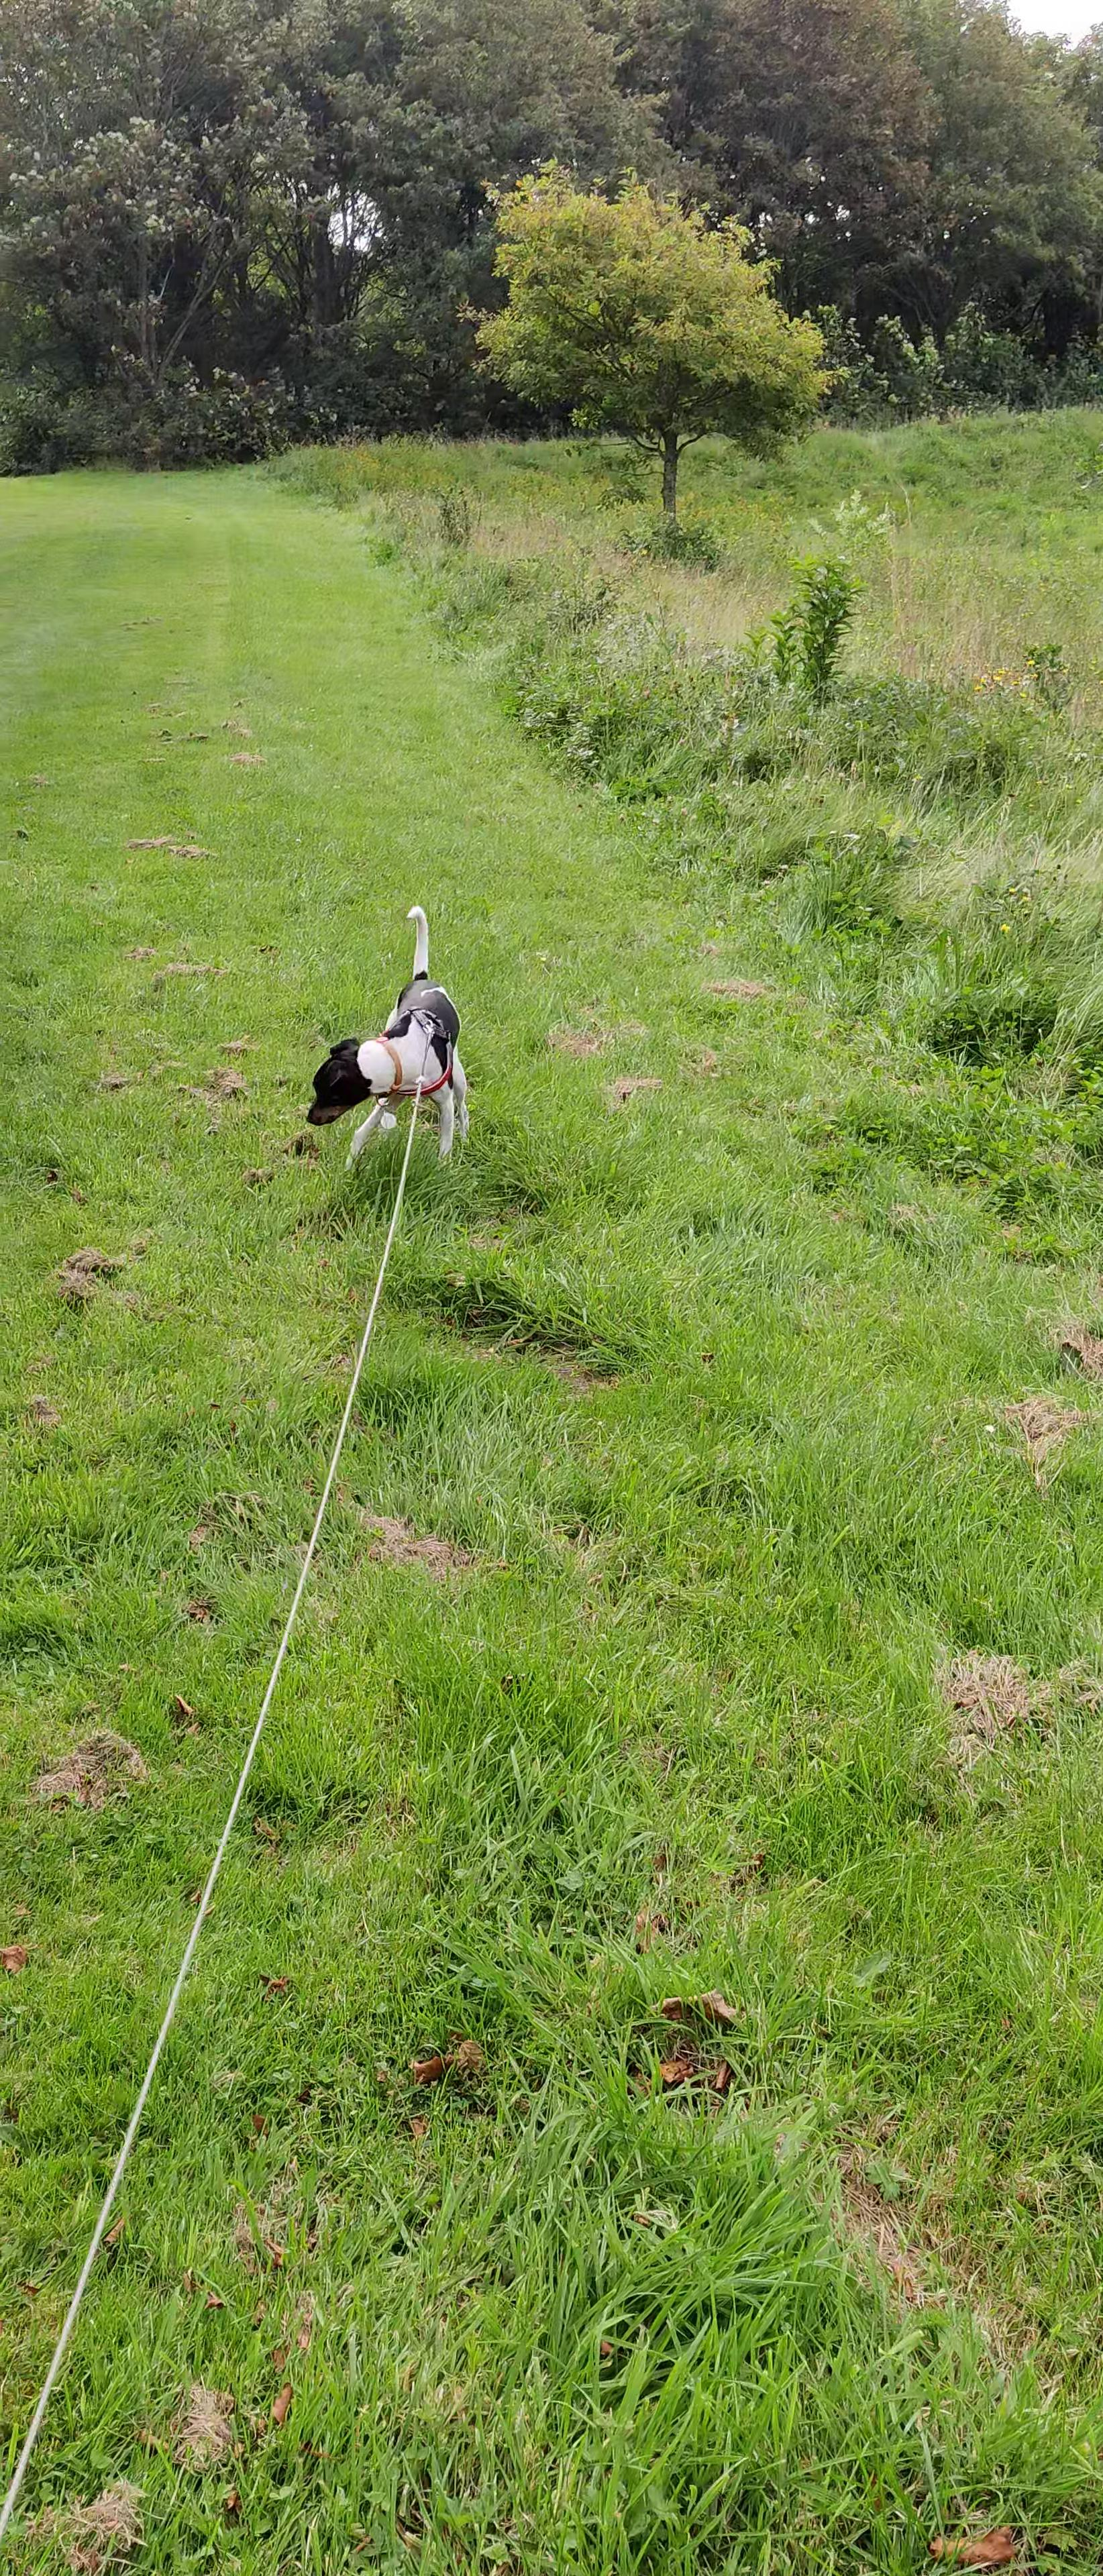Dog: (296, 900, 478, 1181)
